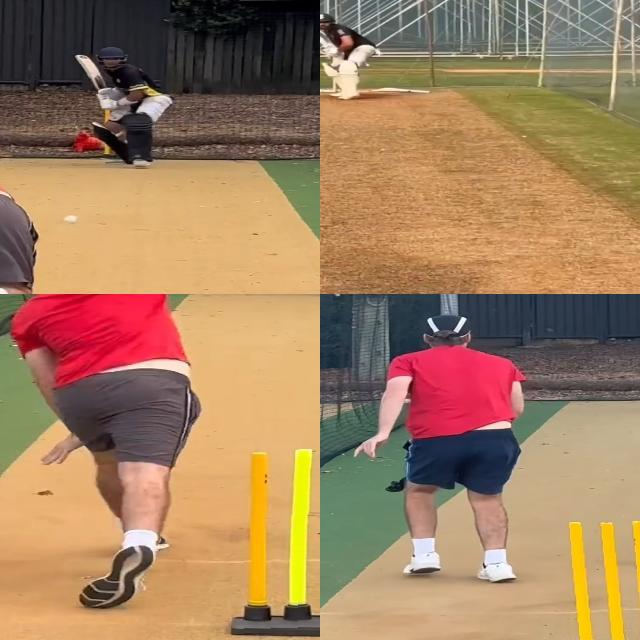Cricket ball: (62, 214, 78, 224)
Stumps: (231, 448, 320, 635), (557, 521, 640, 640)
